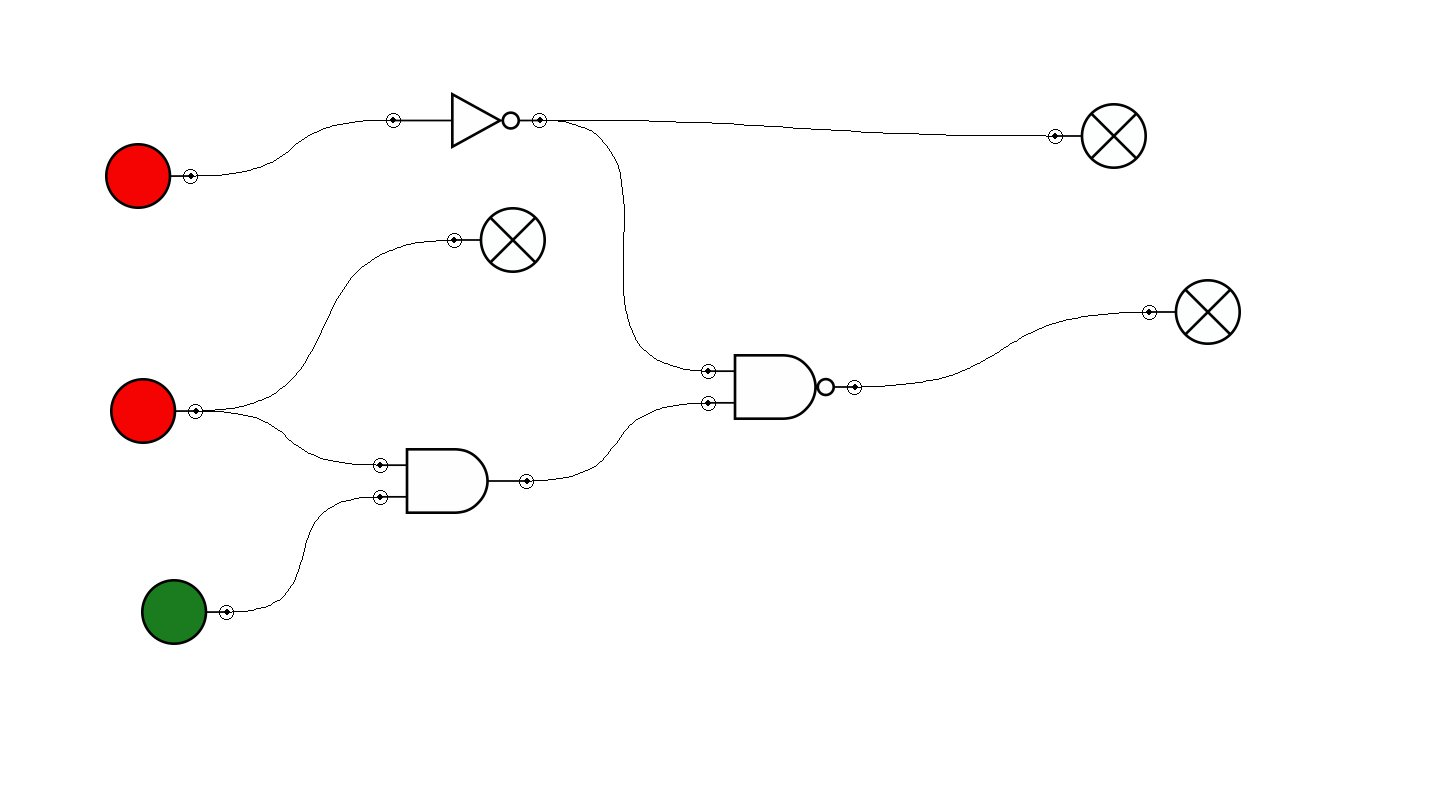and: (373, 448, 534, 514)
bulb: (447, 207, 546, 273), (1142, 279, 1241, 345), (1048, 103, 1147, 169)
nand: (701, 354, 862, 420)
not: (386, 92, 547, 149)
switch_False: (105, 143, 198, 209), (110, 378, 203, 444)
switch_True: (141, 579, 234, 645)
